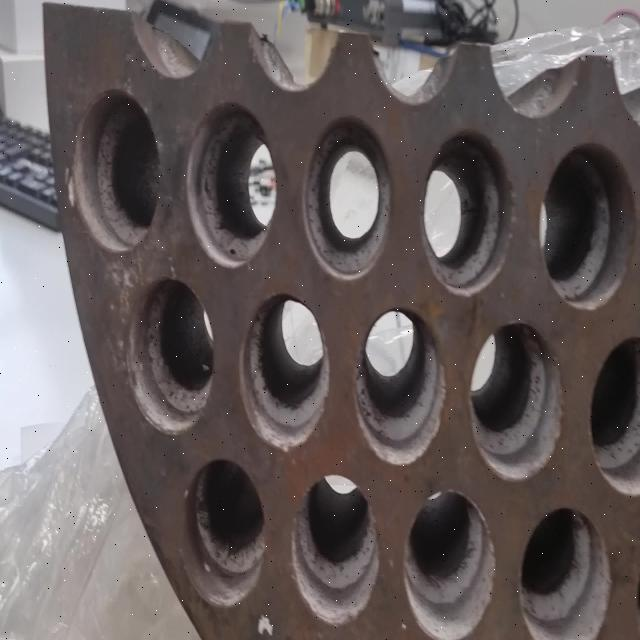Hole: (539, 141, 638, 312), (421, 128, 514, 296), (185, 102, 278, 268), (469, 321, 564, 483), (302, 111, 392, 282), (68, 87, 160, 253), (353, 306, 446, 467), (238, 290, 330, 452), (403, 490, 496, 640), (128, 277, 215, 435), (290, 474, 380, 626), (519, 504, 613, 640), (182, 458, 266, 608), (590, 334, 640, 498)
